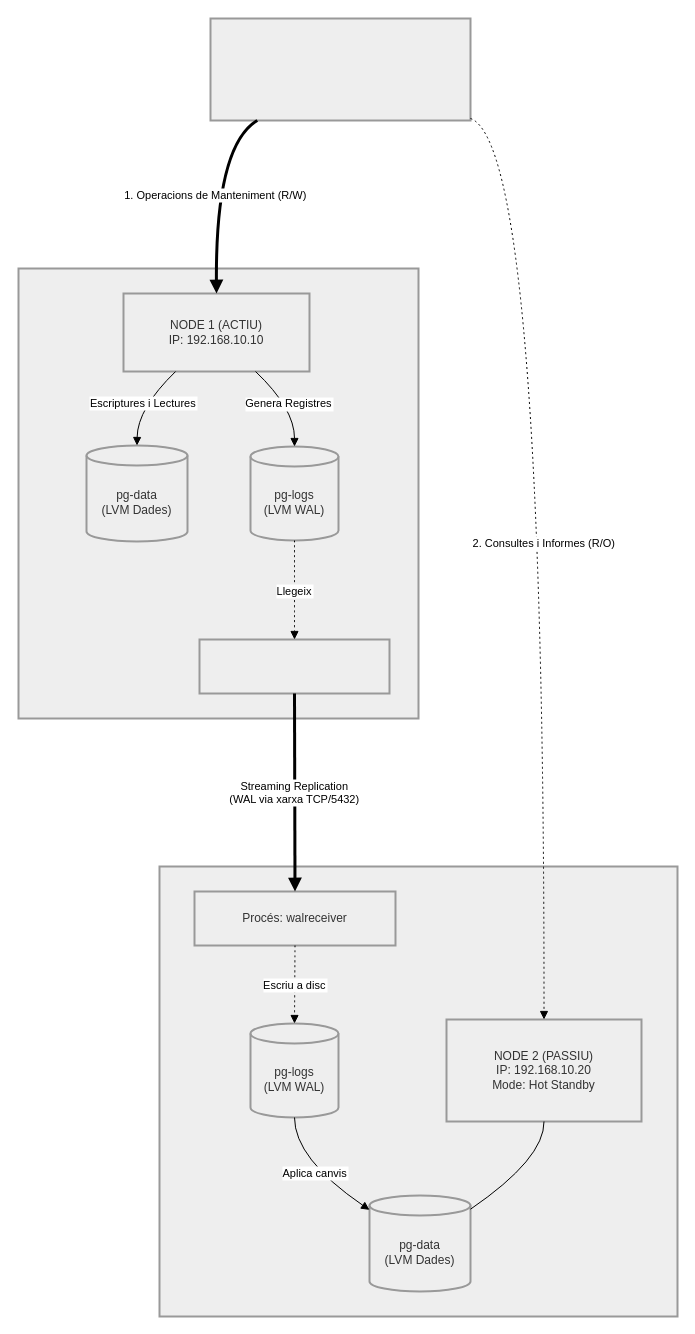
The diagram is 695 pixels wide and 1334 high, and some of its shapes have lost their labels. Here are the shapes that lost their labels. From the top down, the box of each, then its label:
(209, 17, 471, 121): Aplicació Hospitalari
(17, 267, 419, 719): Datacenter Local
(198, 638, 390, 694): Procés: walsender
(158, 865, 678, 1317): Entorn Cloud
